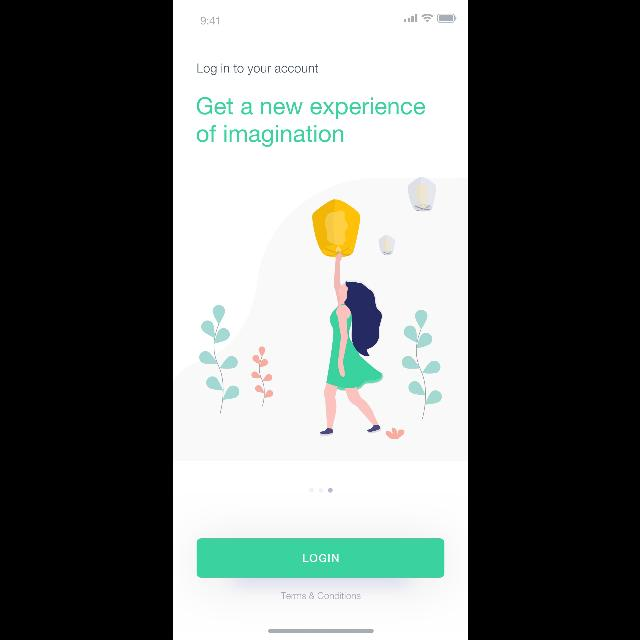image: (196, 176, 444, 442)
pageindicator: (308, 488, 332, 492)
text: (196, 97, 424, 147), (196, 63, 318, 75), (280, 592, 360, 600)
textbutton: (196, 538, 444, 578)
uppertaskbar: (199, 13, 456, 24)
